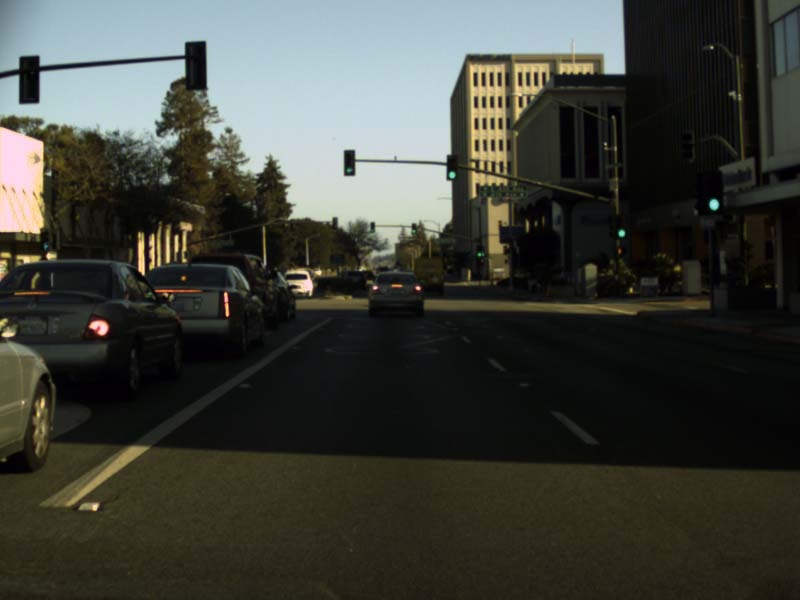Green: (707, 171, 723, 214), (616, 214, 628, 240), (343, 150, 355, 175), (447, 154, 458, 180), (410, 223, 416, 234), (477, 245, 482, 257), (370, 222, 374, 232)
